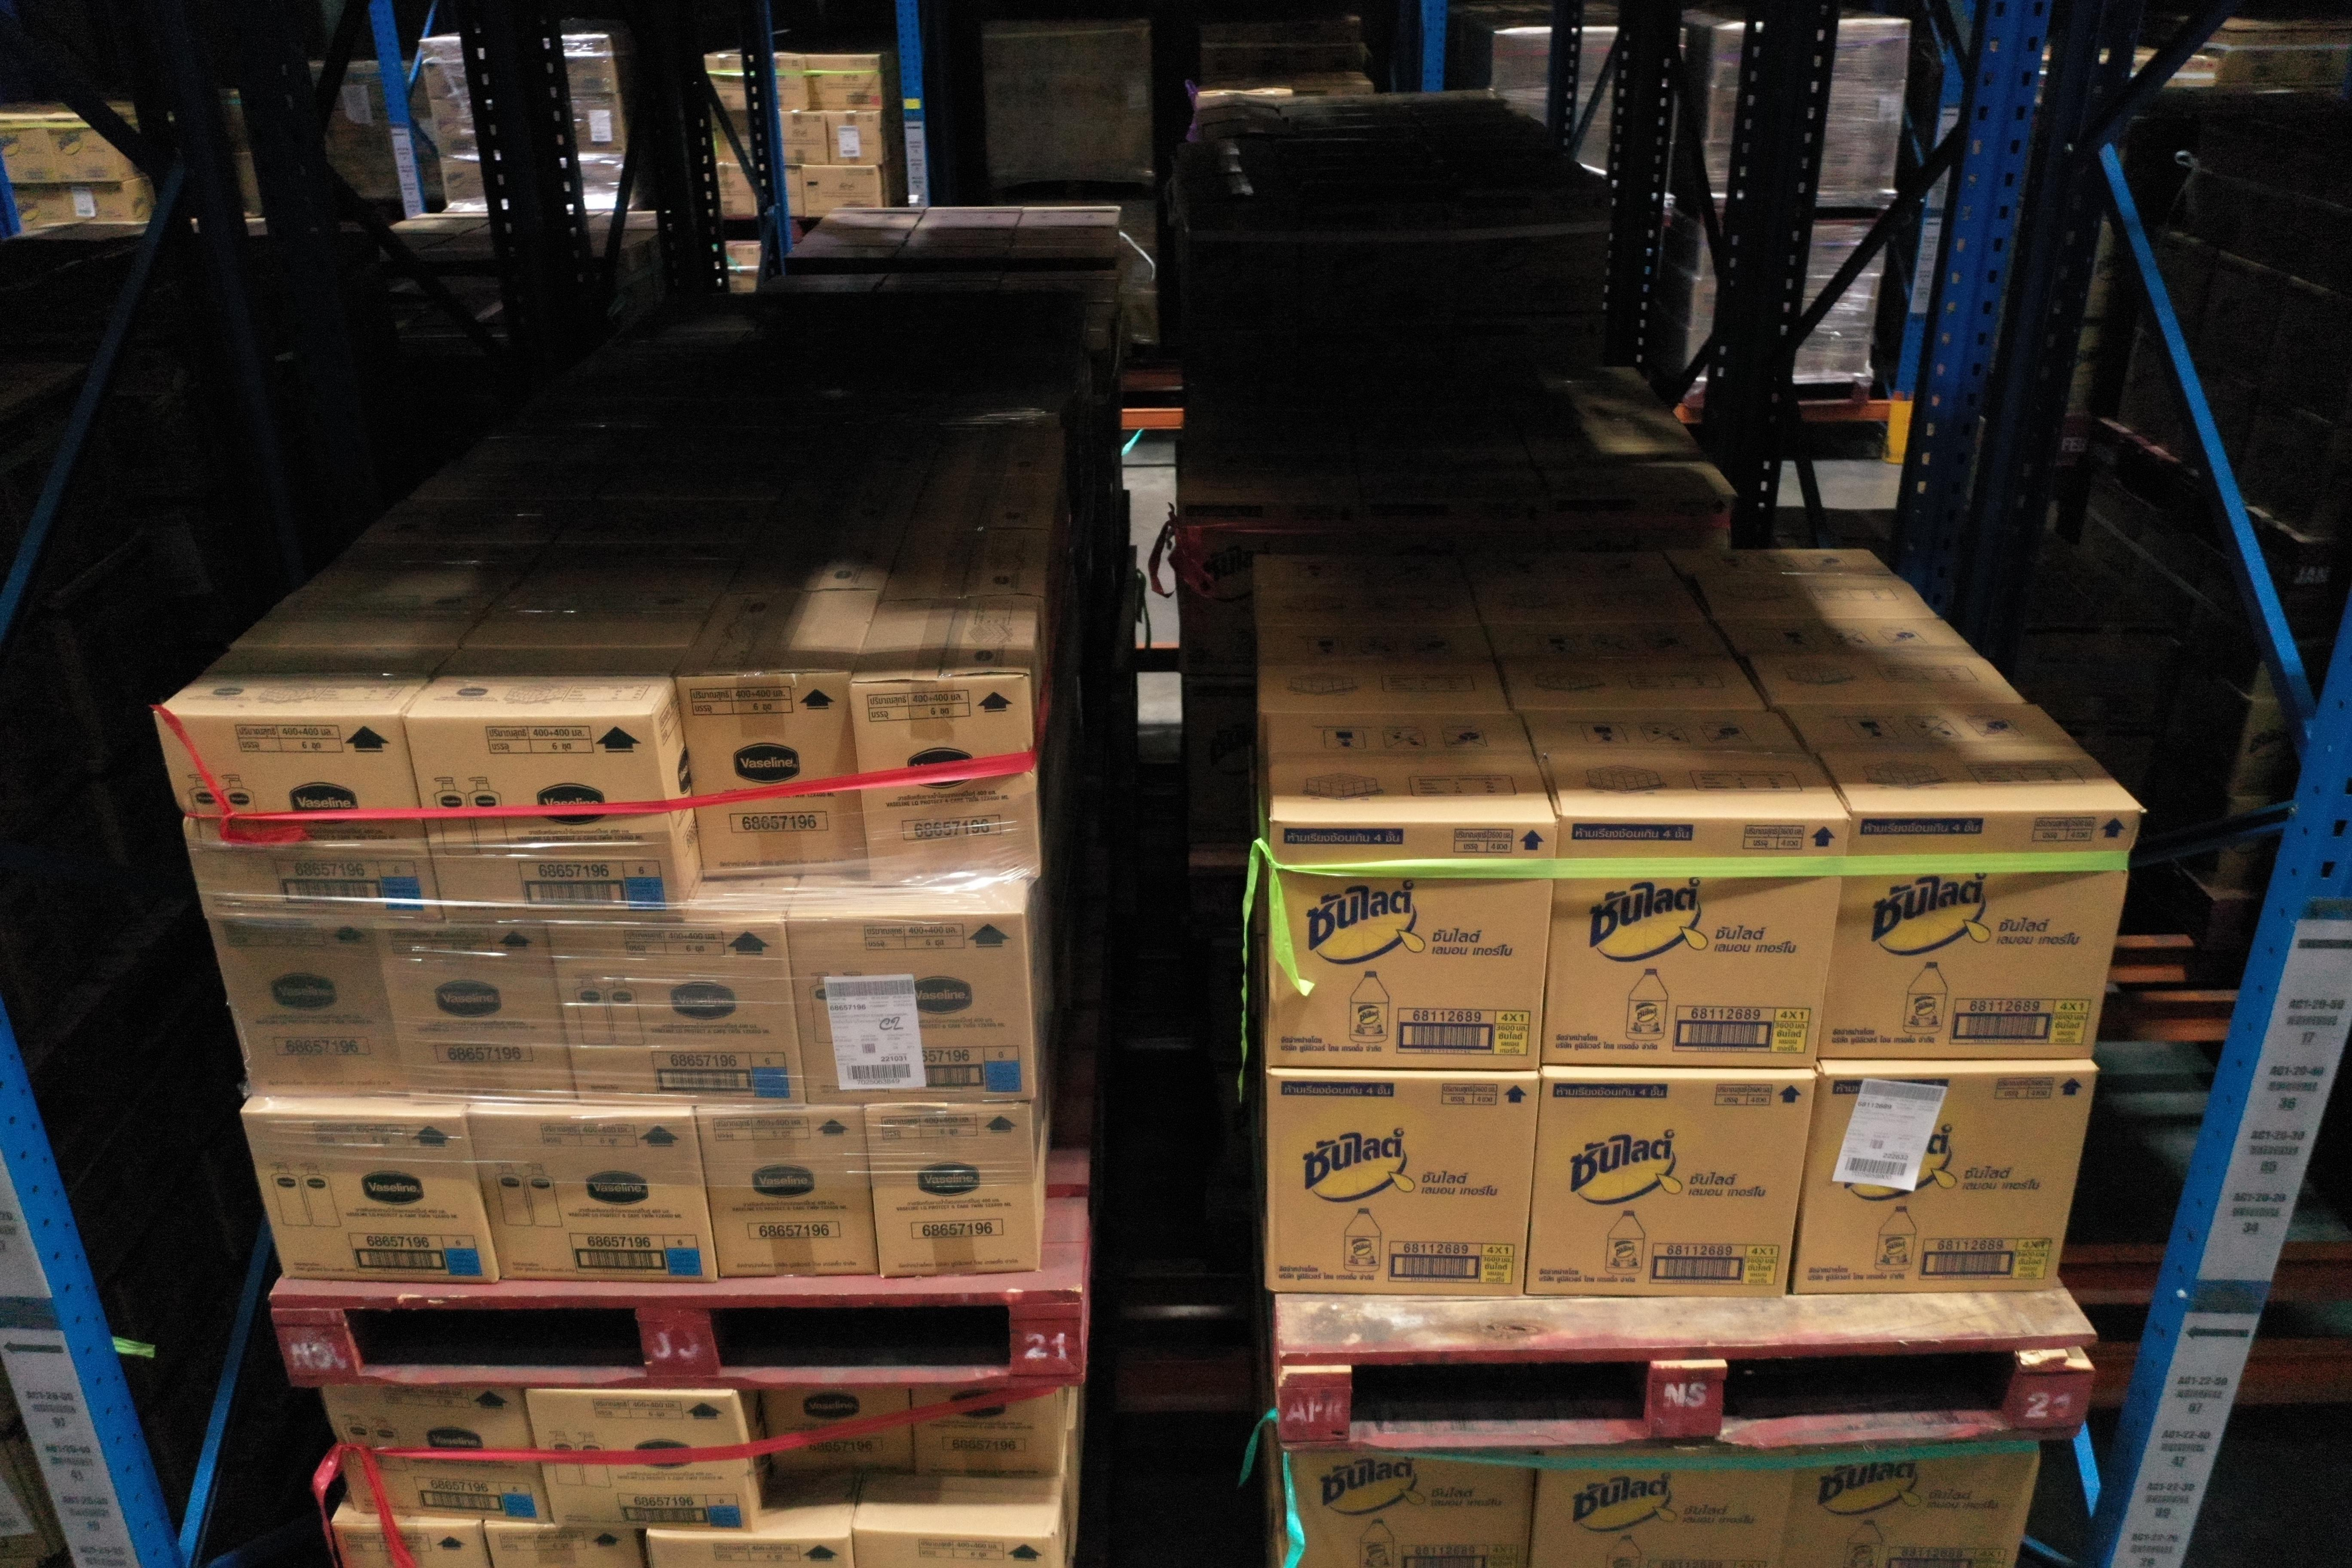-: (1816, 808, 2144, 1062), (1540, 815, 1850, 1069), (1267, 821, 1561, 1073), (1790, 1073, 2098, 1293), (1522, 1076, 1816, 1302), (152, 705, 448, 926), (1267, 1073, 1542, 1304), (402, 716, 688, 933), (546, 917, 808, 1109), (784, 917, 1036, 1106), (238, 1111, 506, 1283), (857, 668, 1048, 896), (469, 1111, 721, 1283), (672, 679, 868, 877), (369, 920, 579, 1101), (208, 922, 408, 1099), (1781, 1437, 2044, 1568), (525, 1388, 756, 1535), (1528, 1449, 1801, 1568), (324, 1384, 551, 1521), (1279, 1449, 1535, 1568), (698, 1111, 880, 1277), (866, 1108, 1041, 1277), (747, 1393, 917, 1475), (913, 1391, 1064, 1477), (334, 1522, 499, 1568), (856, 1533, 1062, 1568), (649, 1535, 857, 1568), (483, 1528, 647, 1566)
